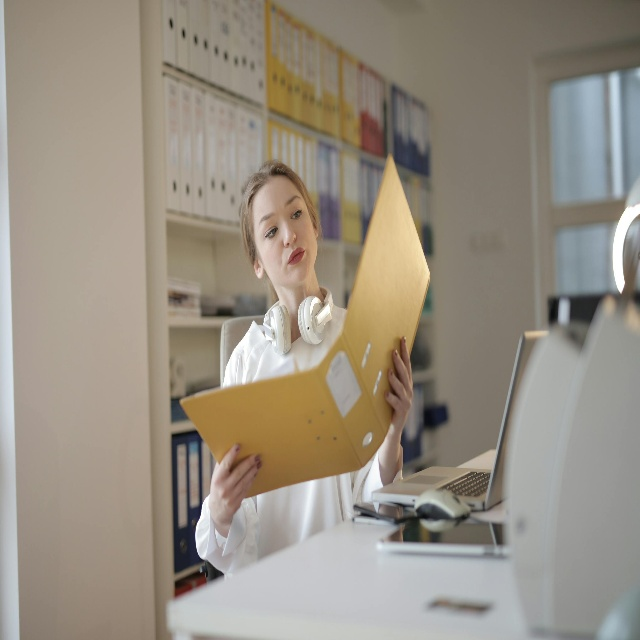Sin_guantes: (208, 444, 264, 526), (384, 335, 414, 441)
